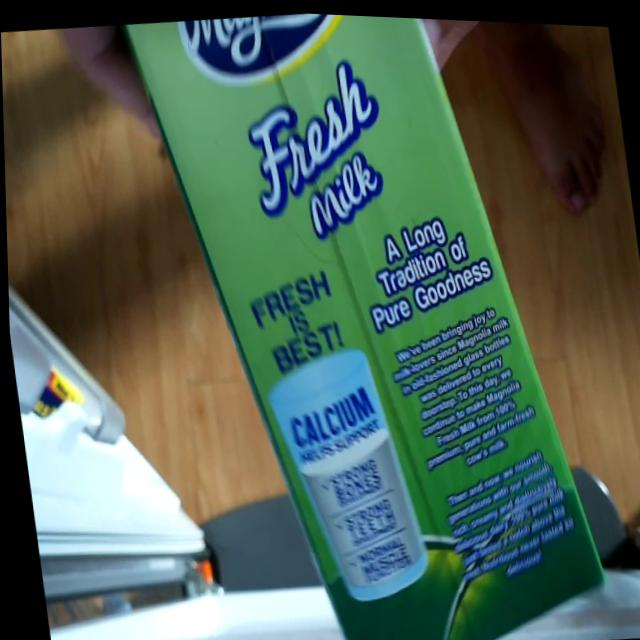milk: (118, 4, 609, 640)
